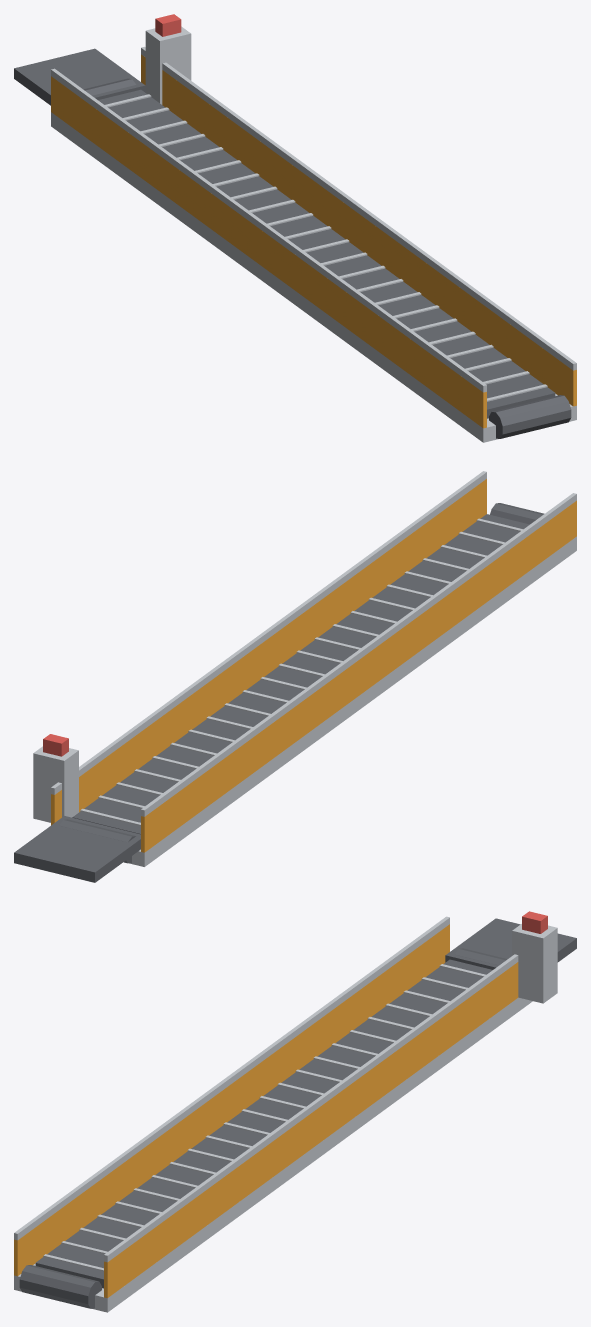
Rendered from ski-resort-and-snow-park-magic-carpet-f63b90a2__25959.glb.
3 views of the same model, one above another, from view 1: azimuth 30°, elevation 25°; view 2: azimuth 150°, elevation 25°; view 3: azimuth 330°, elevation 25° (orthographic).
Visible parts, largest first — view 1: magic-carpet; view 2: magic-carpet; view 3: magic-carpet.
Boxes of the visible parts, box(x1,y1,x2,y2) form: magic-carpet: box(14, 14, 576, 442); magic-carpet: box(14, 471, 576, 882); magic-carpet: box(14, 911, 576, 1312).
Bounding box in the file's own units: 1.9 × 1.42 × 13.39.
